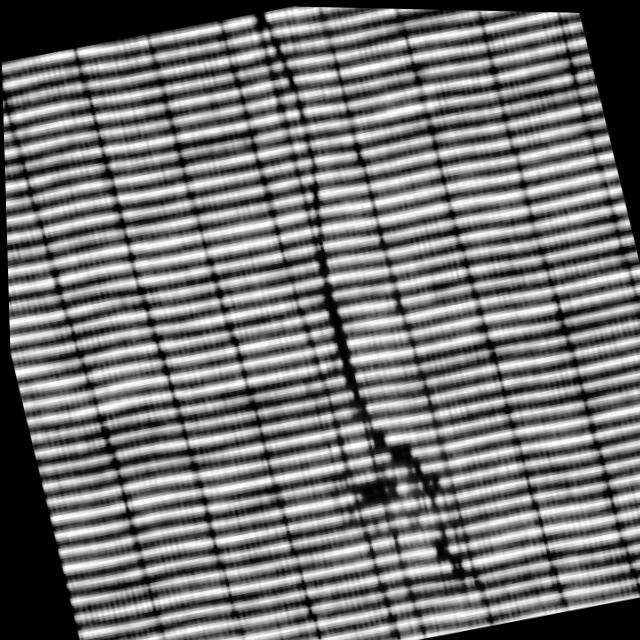Stitch: (208, 4, 514, 619)
